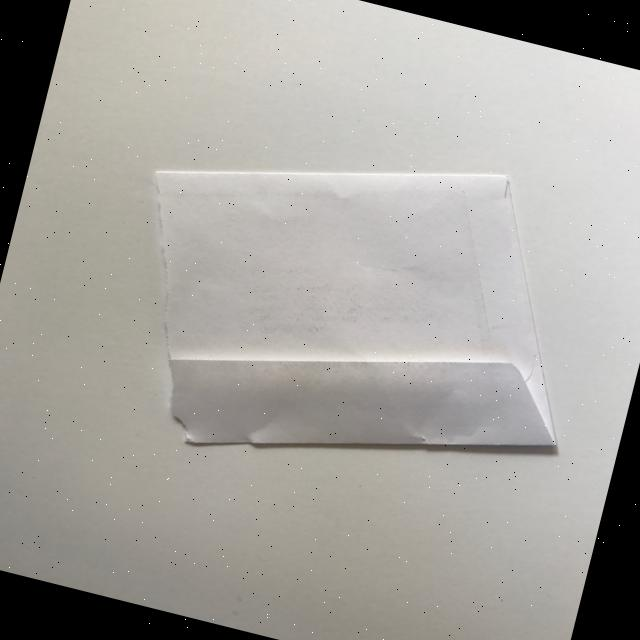paper: (91, 91, 618, 530)
